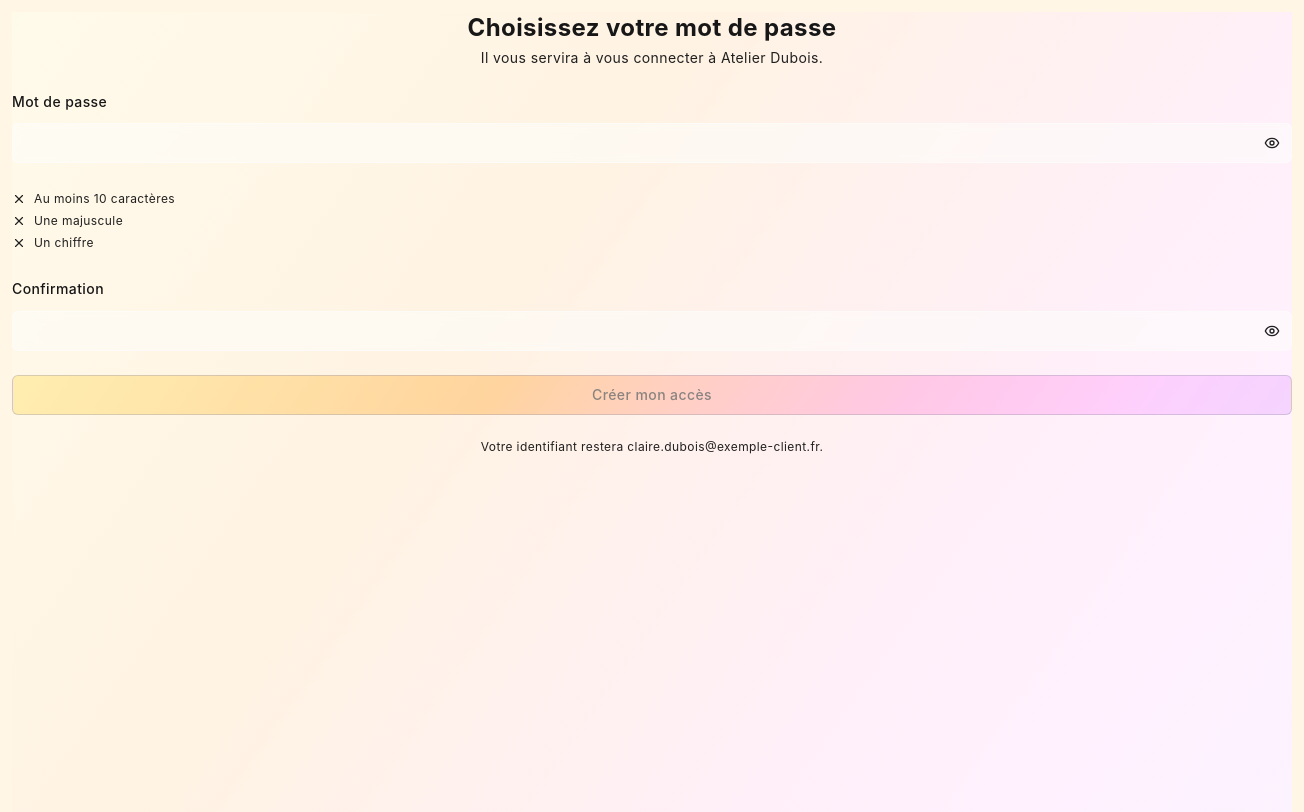
PasswordScreen — confirmation › signale la divergence après le blur du champ de confirmation
Step 1. Type "Motdepasse1" into the password field labelled "Mot de passe" → (652, 143), box [12,123,1292,163]
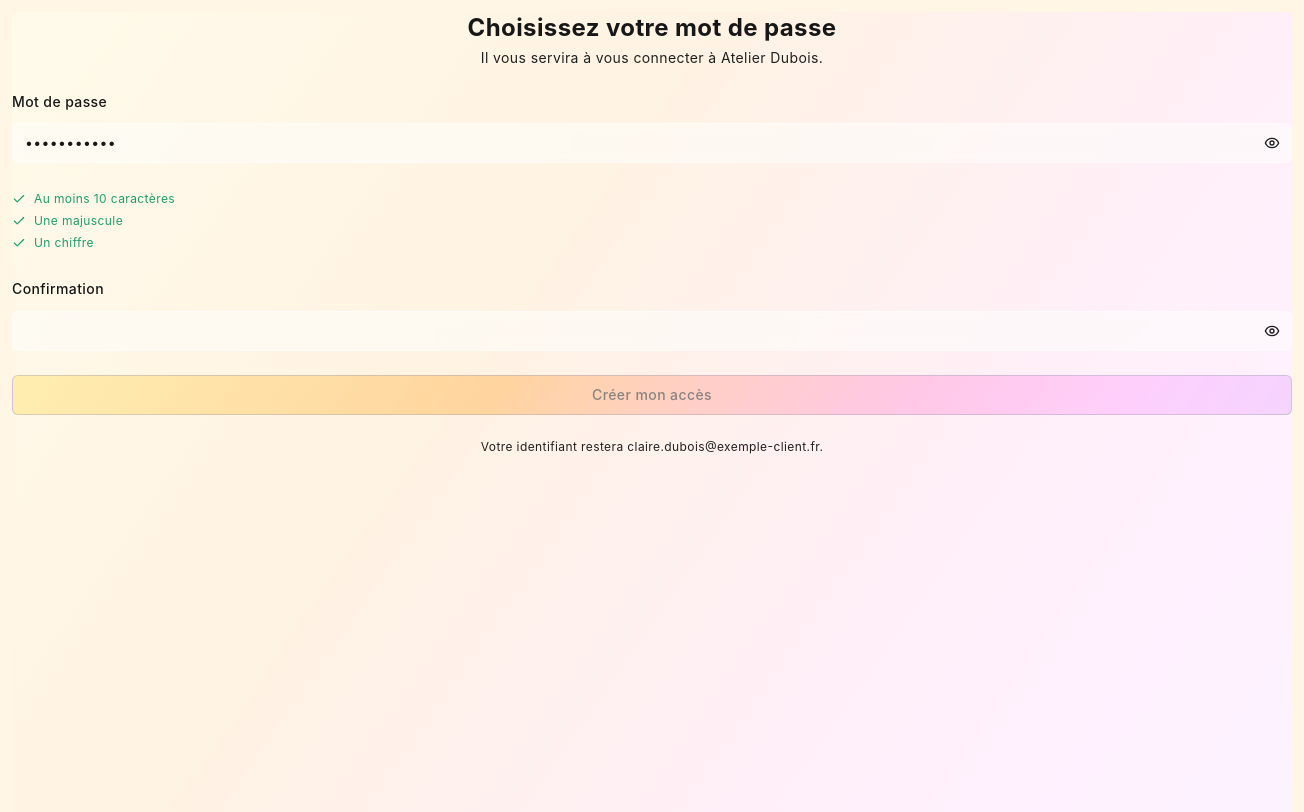
Step 2. Type "autre-chose" into the password field labelled "Confirmation" → (652, 330), box [12,310,1292,350]
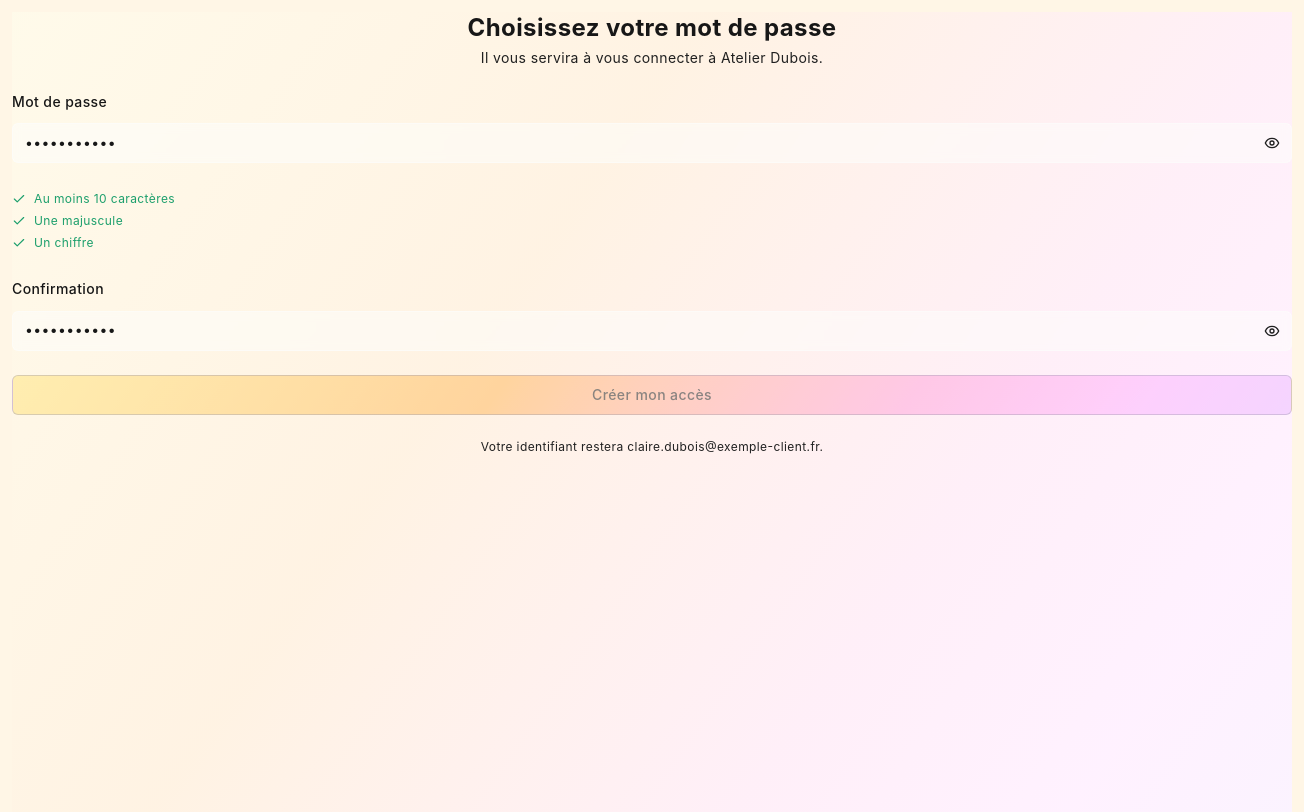
Step 3. Leave the password field labelled "Confirmation", box [12,310,1292,350]
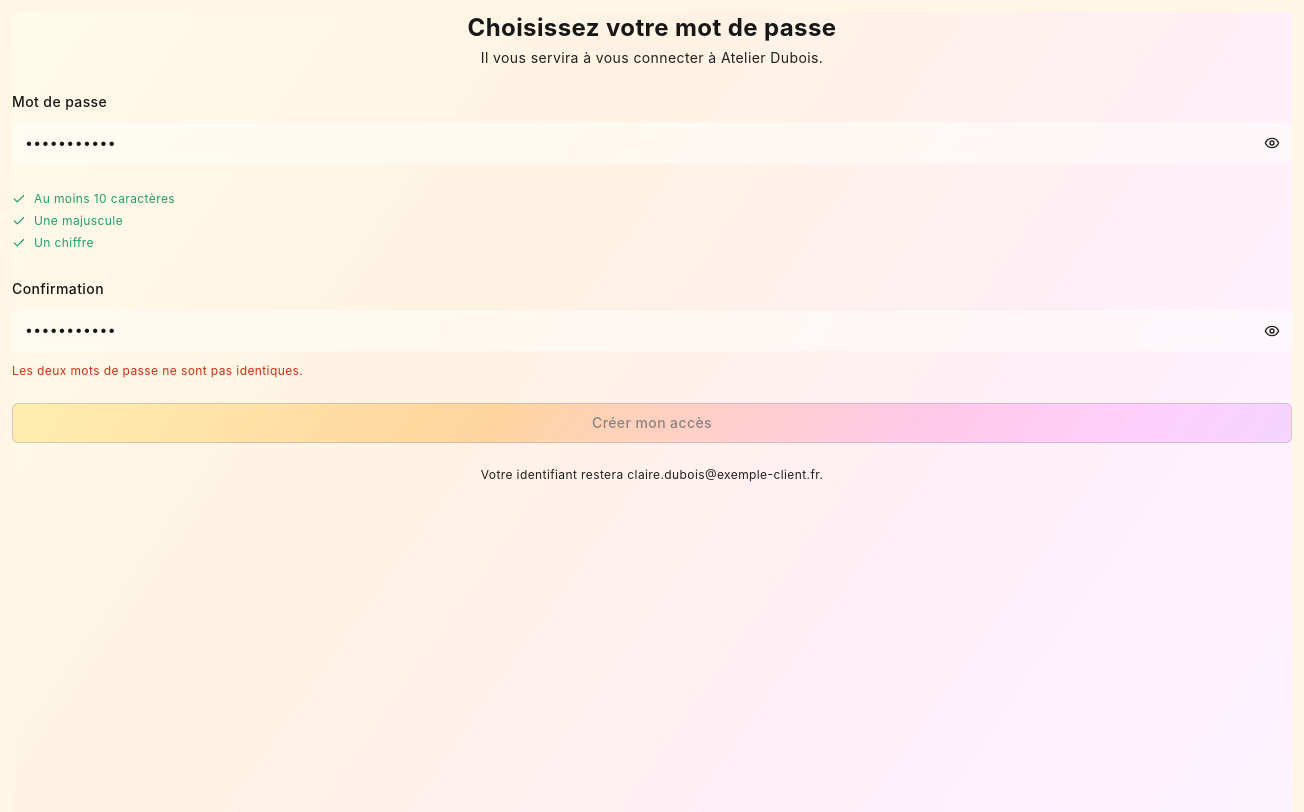
expect the text "Les deux mots de passe ne sont pas identiques." is shown: met, box [12,362,303,378]
